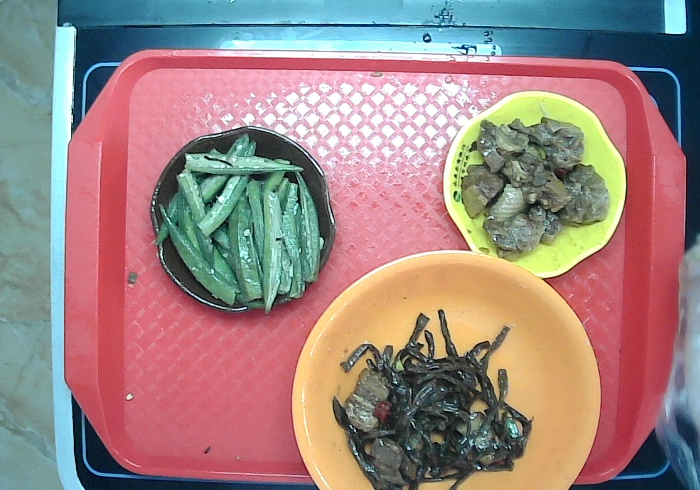YKMZ-Huang_Se_Ao_Bian_Wan: (438, 89, 625, 280)
YKMZ-Ju_Se_Tang_Wan: (289, 249, 600, 490)
YKMZ-Ka_Fei_Ao_Bian_Wan: (150, 127, 338, 321)
